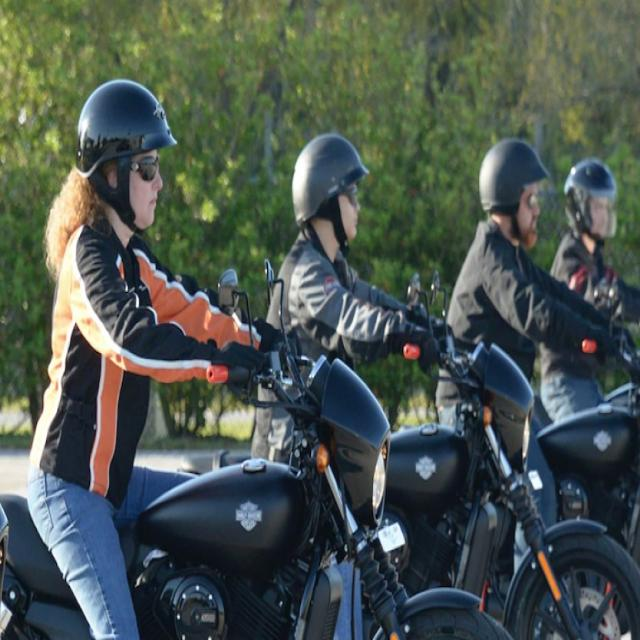With Helmet: (2, 68, 499, 640), (272, 122, 638, 640), (439, 124, 640, 486)
